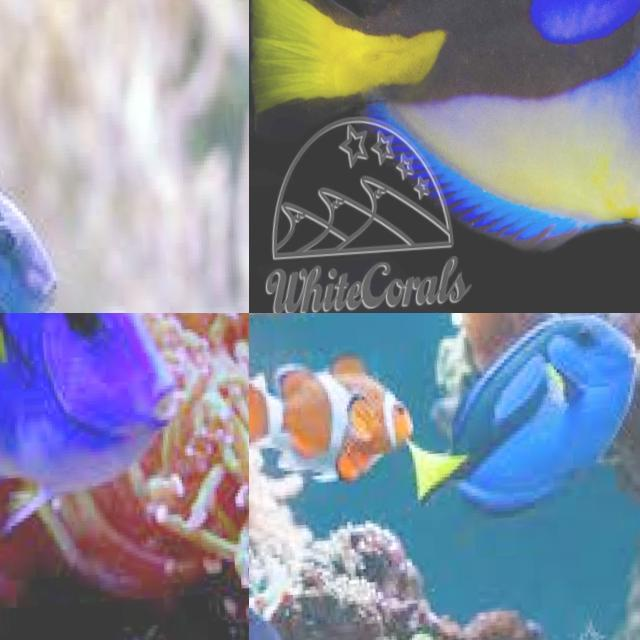BlueTang: (407, 0, 640, 245), (409, 312, 640, 520), (0, 313, 179, 510), (0, 198, 62, 313)
ClownFish: (248, 350, 412, 486)
